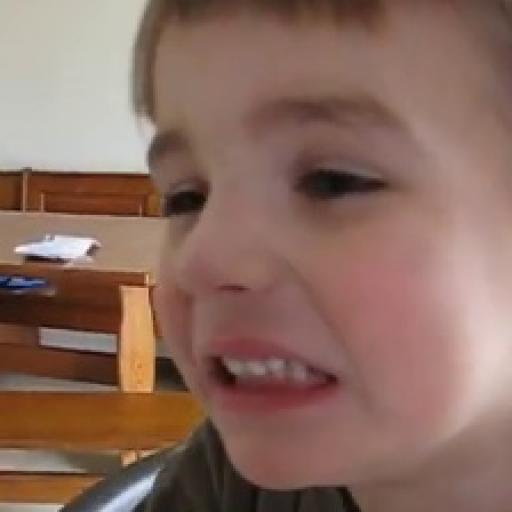Autism: (106, 2, 512, 512)
